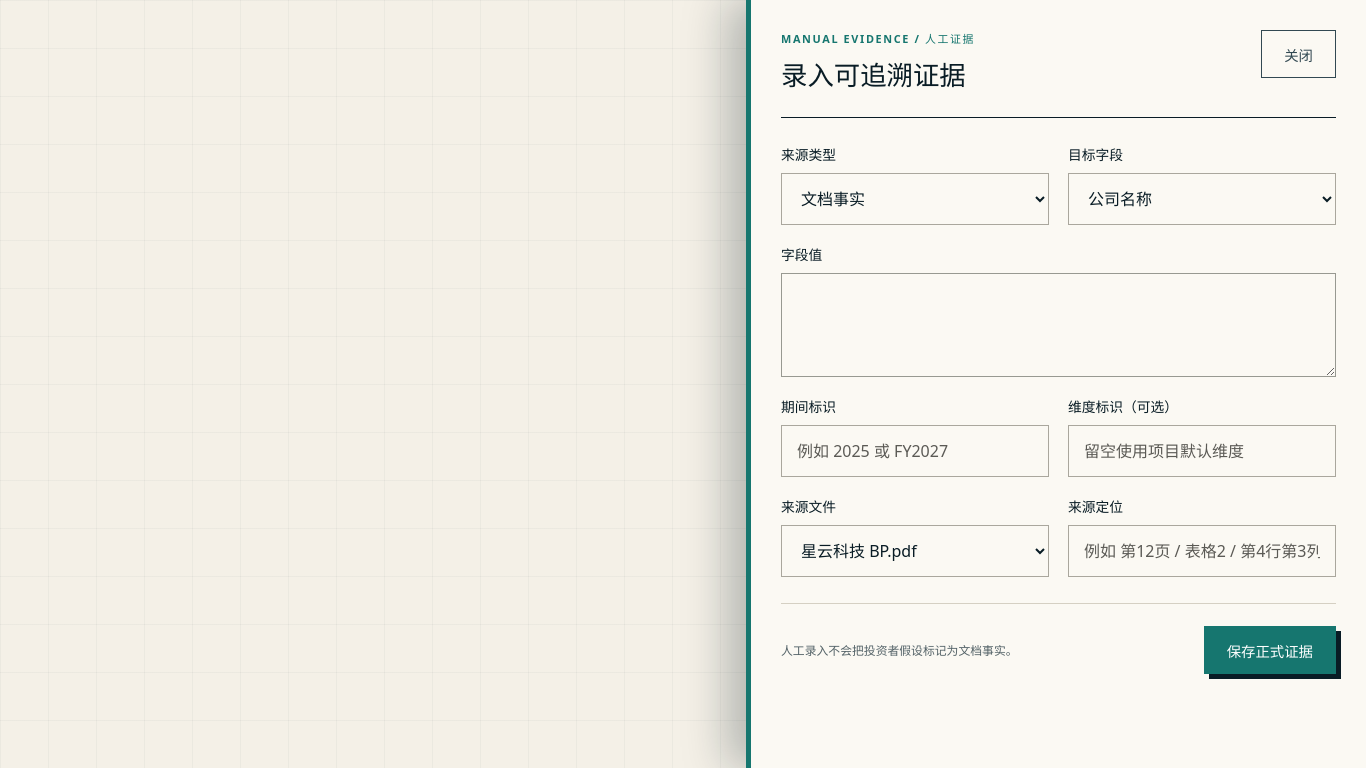
Test case: ManualEvidenceForm › validates numeric fields and mandatory source details without fabricating values
Select "营业收入" in the dropdown labelled "目标字段": (1202, 199) [1068,173,1336,225]
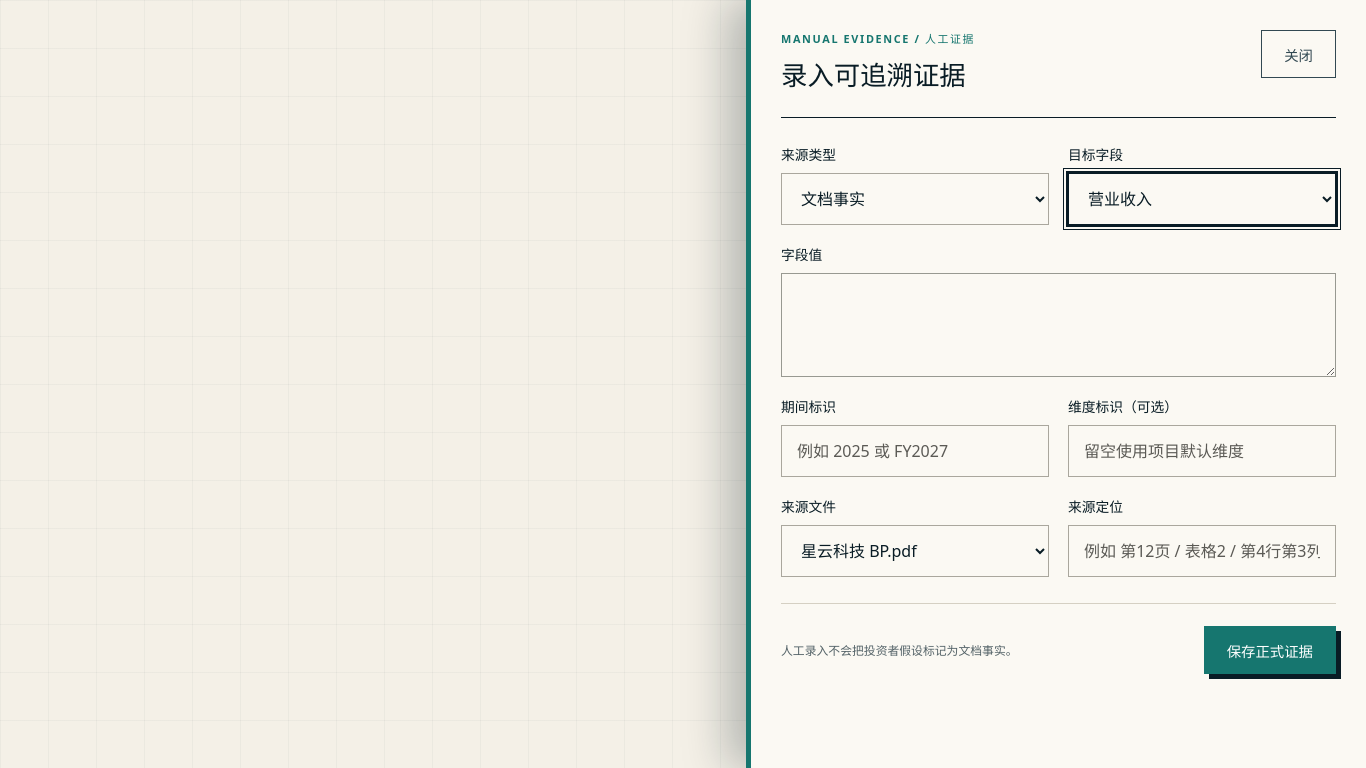
In the text box labelled "字段值": (1058, 325) [781,273,1336,377], type "十二亿元"
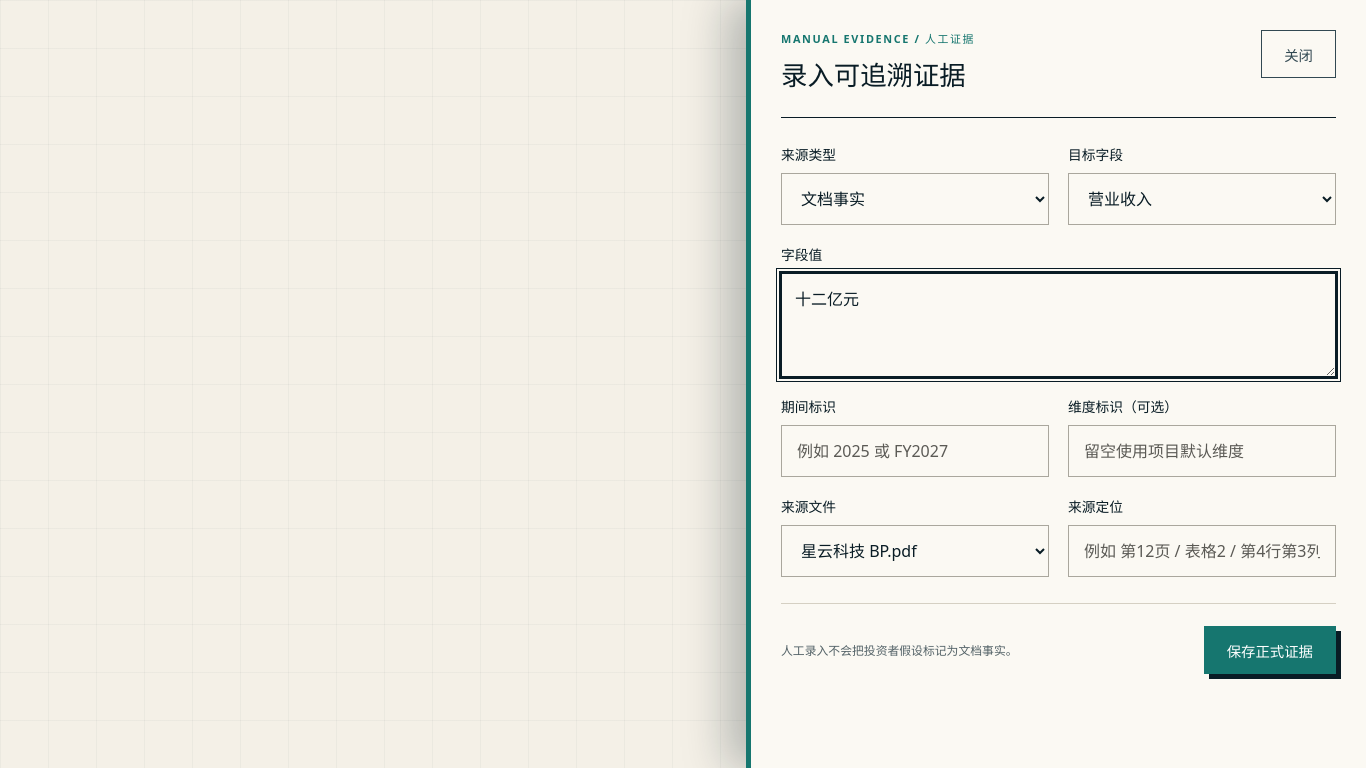
Click the button "保存正式证据": click(1270, 650) [1204,626,1336,674]
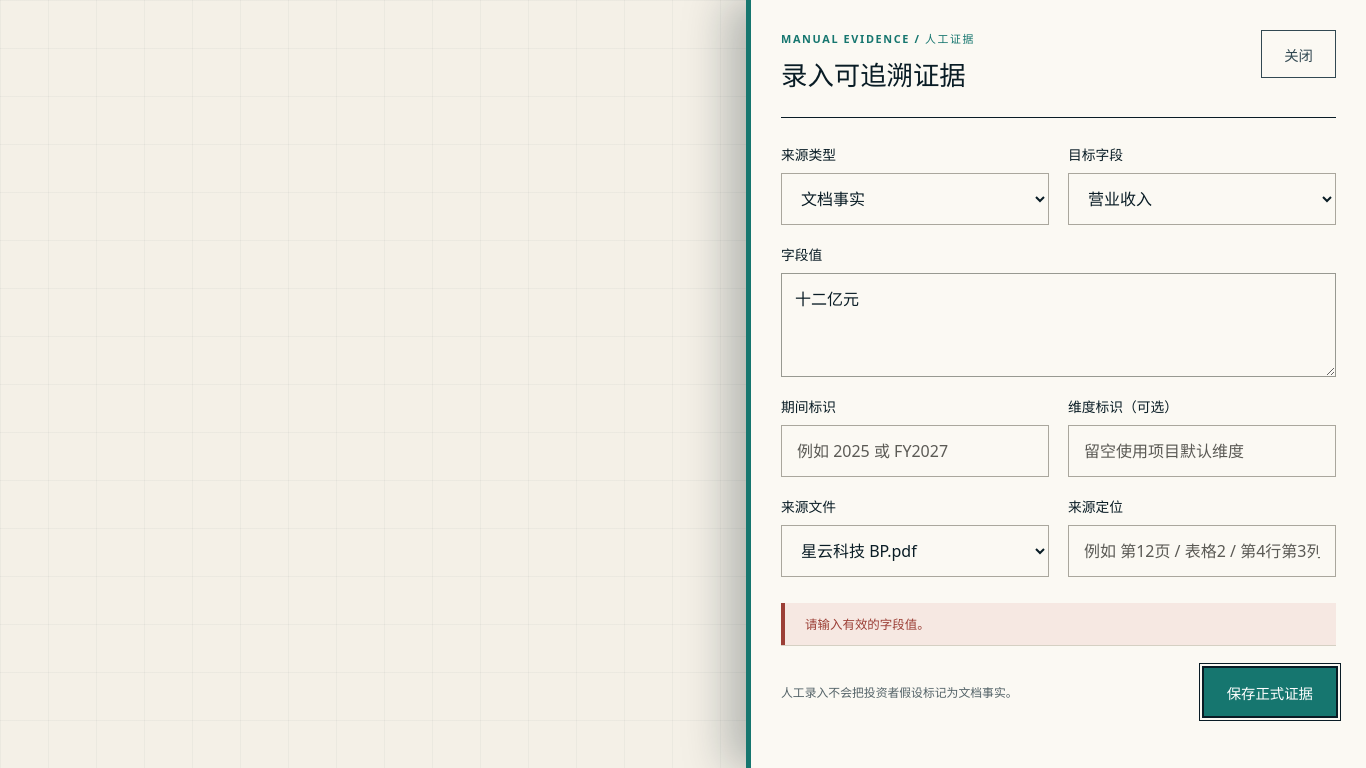
Result: the message shows "请输入有效的字段值" at [805,616,930,633]
